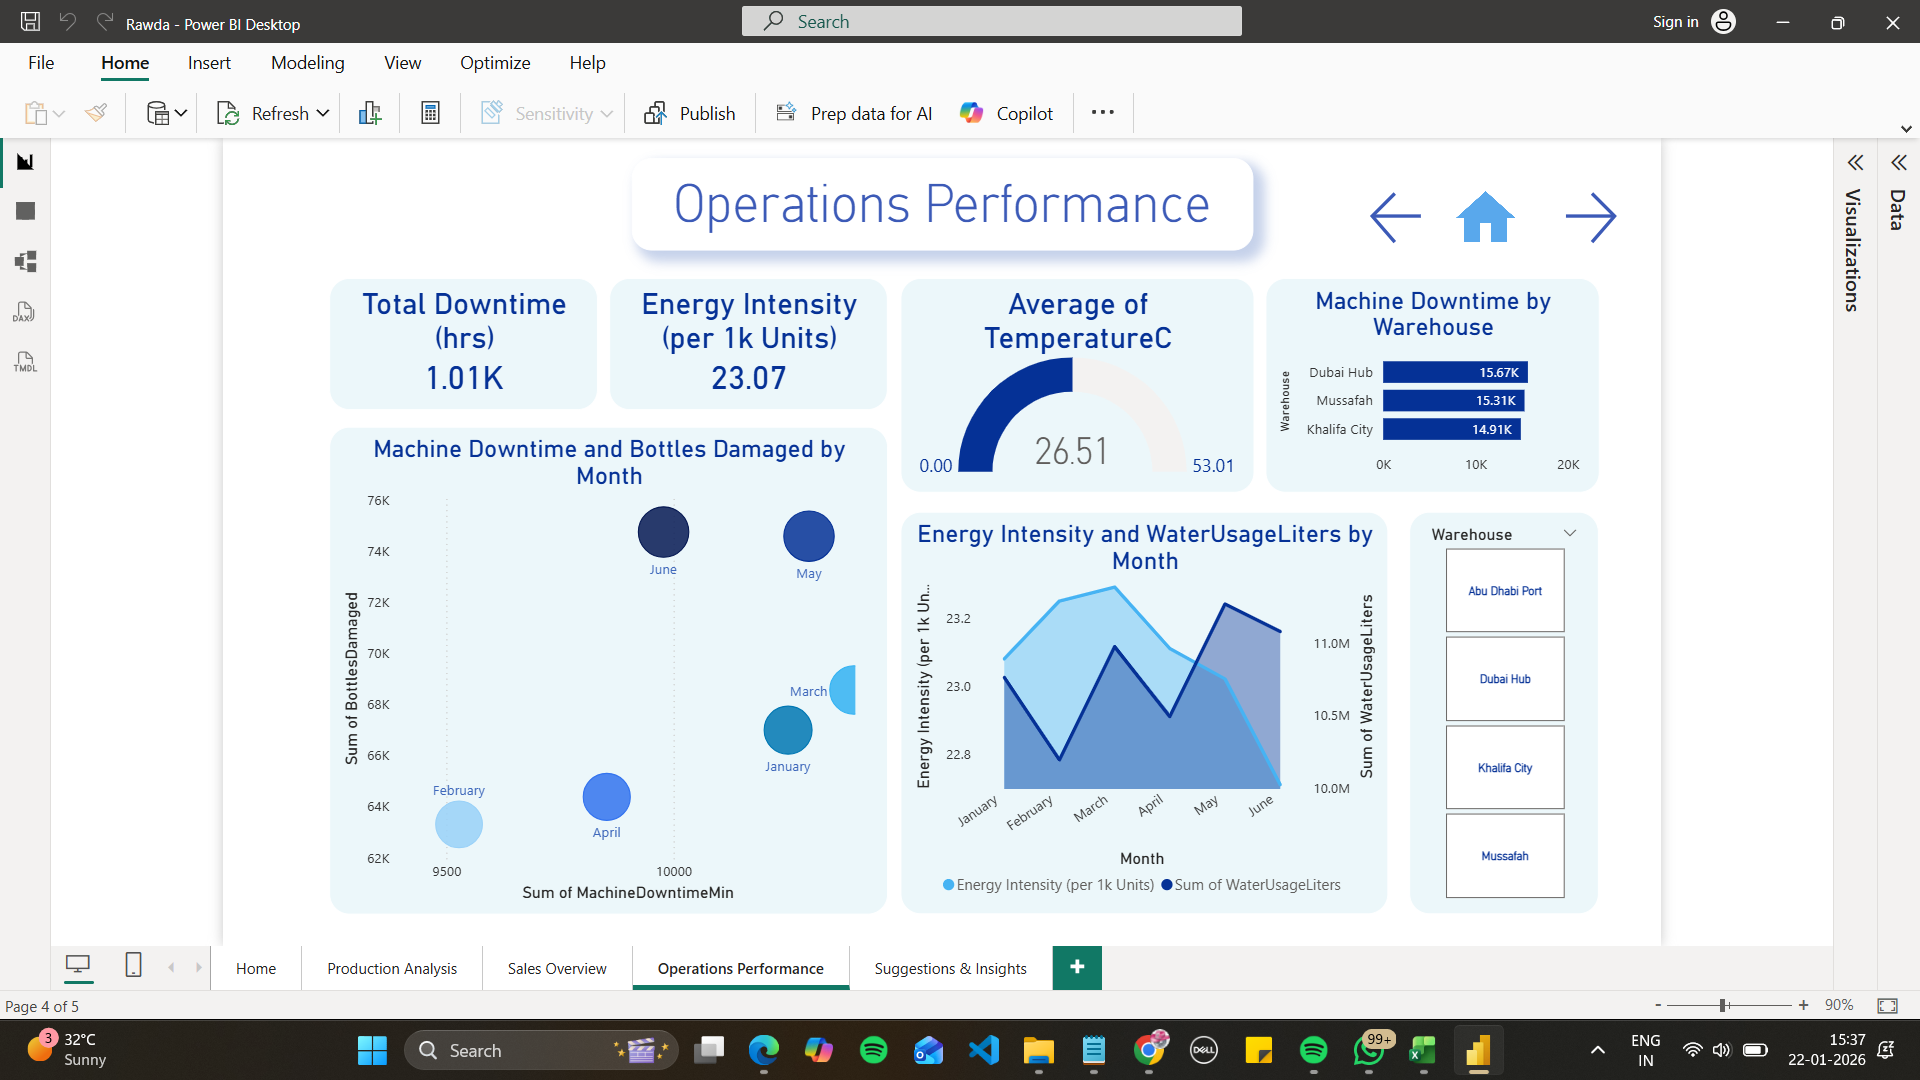

The dashboard page shown, as its layout file describes it:
{"tool":"powerbi","page":{"name":"Operations Performance","canvas":[1280,720],"ordinal":3},"visuals":[{"type":"slicer","fields":{"Values":["Rawda_procudtion_sales.Warehouse"]},"box":[1056.8,333.3,169.1,358],"z":0},{"type":"textbox","box":[363.8,17.5,553.8,82.5],"z":1000},{"type":"card","title":"Total Downtime (hrs)","fields":{"Values":["Rawda_procudtion_sales.Total Downtime (hrs)"]},"box":[95.1,124.7,239.5,117.3],"z":2000},{"type":"card","title":"Energy Intensity (per 1k Units)","fields":{"Values":["Rawda_procudtion_sales.Energy Intensity (per 1k Units)"]},"box":[344.4,124.7,248.1,117.3],"z":3000},{"type":"scatterChart","title":" Machine Downtime and Bottles Damaged by Month","fields":{"Category":["Rawda_procudtion_sales.Date.Variation.Date Hierarchy.Month"],"X":["Rawda_procudtion_sales.MachineDowntimeMin"],"Y":["Rawda_procudtion_sales.BottlesDamaged"],"Size":["Rawda_procudtion_sales.BottlesDamaged"]},"box":[95.1,256.8,497.5,434.6],"z":4000},{"type":"areaChart","title":"Energy Intensity and WaterUsageLiters by Month","fields":{"Category":["Rawda_procudtion_sales.Date.Variation.Date Hierarchy.Month"],"Y":["Rawda_procudtion_sales.Energy Intensity (per 1k Units)"],"Y2":["Rawda_procudtion_sales.WaterUsageLiters"]},"box":[603.7,333.3,434.6,358],"z":5000},{"type":"gauge","fields":{"Y":["Rawda_procudtion_sales.TemperatureC"]},"box":[603.7,124.7,314.8,191.4],"z":6000},{"type":"actionButton","box":[1016.2,42.5,81.2,57.5],"z":7000},{"type":"image","box":[1096.7,42.2,55.5,57.9],"z":8000},{"type":"actionButton","box":[1188.8,42.5,73.8,57.5],"z":9000},{"type":"barChart","title":"Machine Downtime by Warehouse","fields":{"Category":["Rawda_procudtion_sales.Warehouse"],"Y":["Rawda_procudtion_sales.MachineDowntimeMin"]},"box":[928.4,124.7,297.5,191.4],"z":10000}]}

Visuals, with their boxes on the page's 1280x720 design canvas (x1, y1, x2, y2). These are canvas units, not pixel positions in the 1920x1080 screenshot, which may show the page scaled, cropped or inside an application window:
slicer - Rawda_procudtion_sales.Warehouse: left=1057, top=333, right=1226, bottom=691
textbox: left=364, top=18, right=918, bottom=100
"Total Downtime (hrs)" card: left=95, top=125, right=335, bottom=242
"Energy Intensity (per 1k Units)" card: left=344, top=125, right=592, bottom=242
" Machine Downtime and Bottles Damaged by Month" scatterChart: left=95, top=257, right=593, bottom=691
"Energy Intensity and WaterUsageLiters by Month" areaChart: left=604, top=333, right=1038, bottom=691
gauge - Rawda_procudtion_sales.TemperatureC: left=604, top=125, right=918, bottom=316
actionButton: left=1016, top=42, right=1097, bottom=100
image: left=1097, top=42, right=1152, bottom=100
actionButton: left=1189, top=42, right=1263, bottom=100
"Machine Downtime by Warehouse" barChart: left=928, top=125, right=1226, bottom=316
